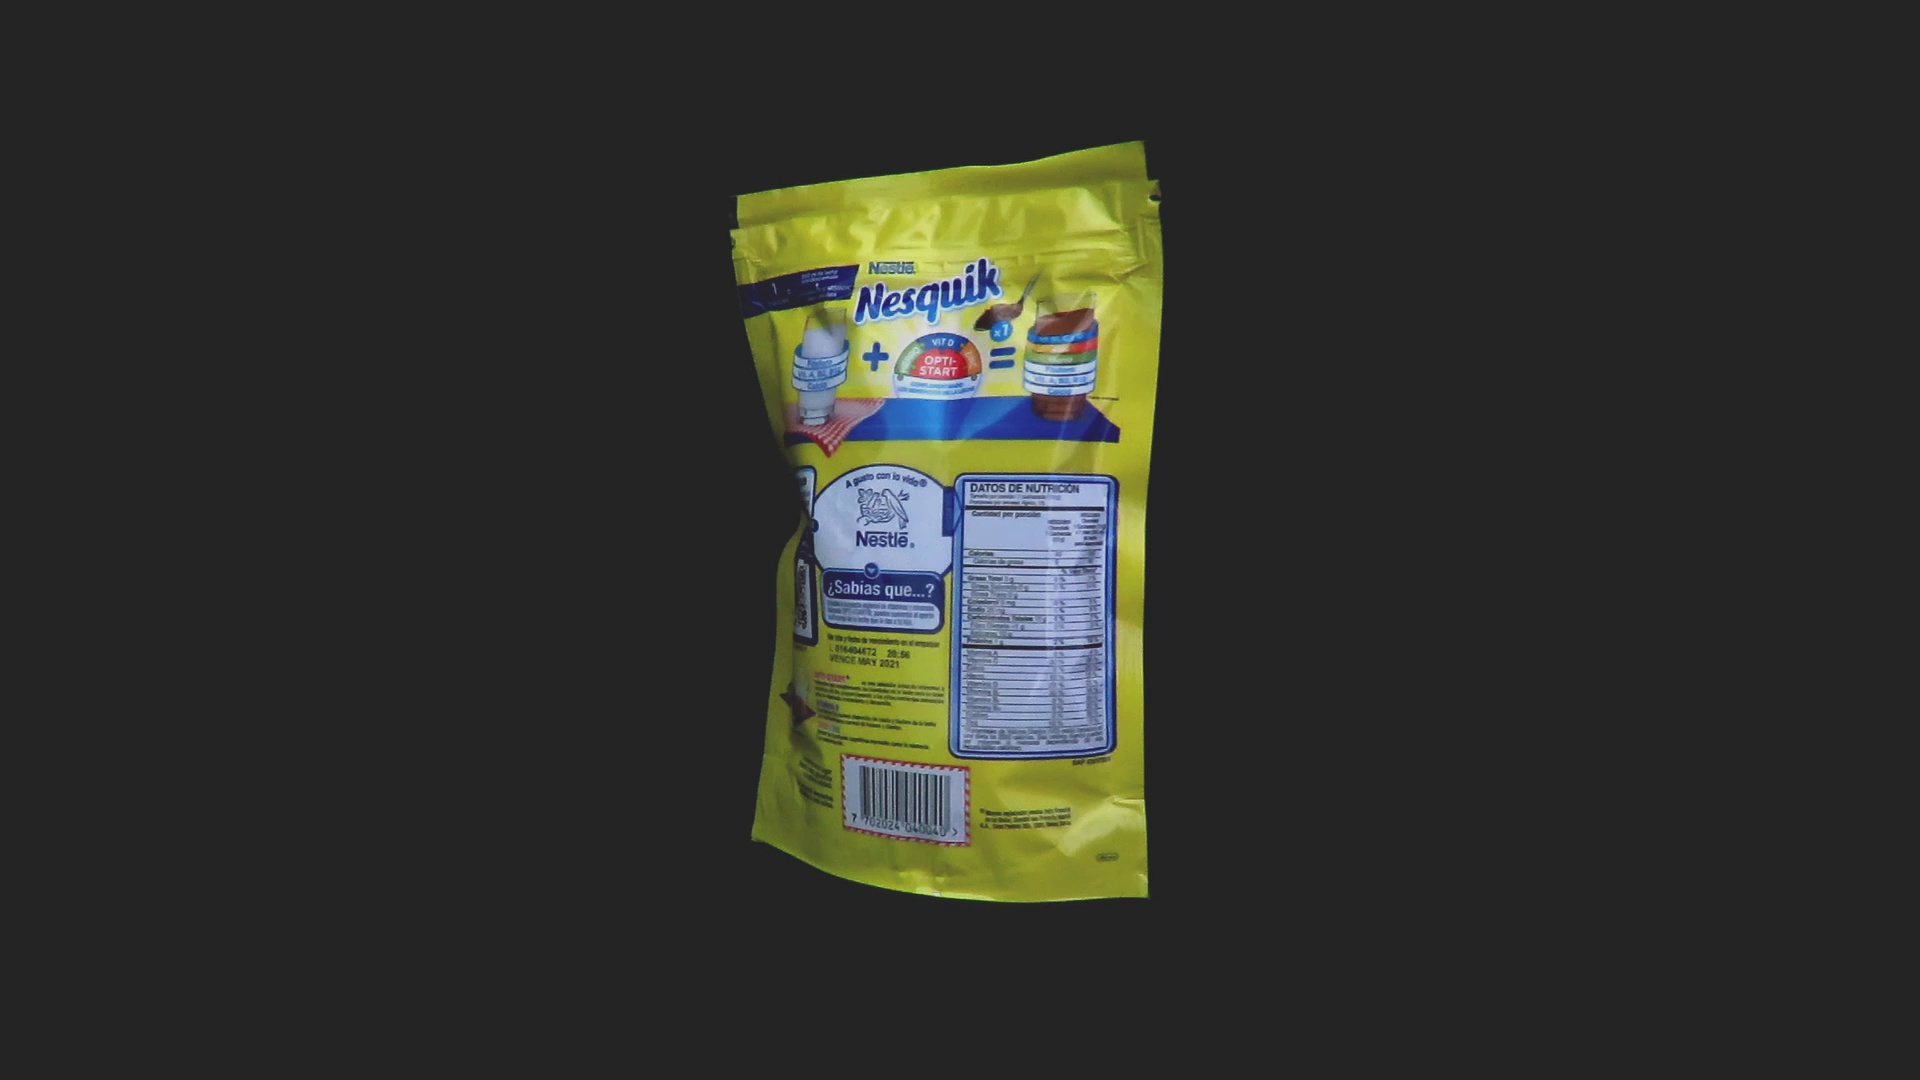COL0170303DYP20000: (725, 135, 1170, 909)
